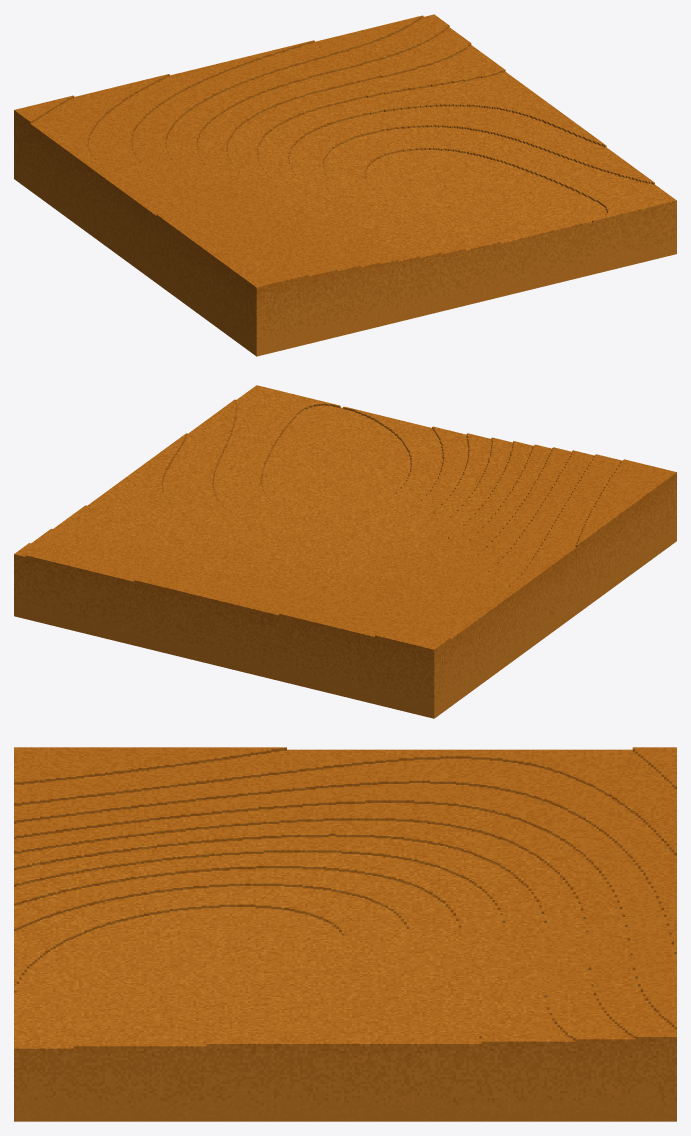
Rendered from Marte-10.obj.
The picture shows the model from 3 angles, top to bottom: view 1: azimuth 30°, elevation 25°; view 2: azimuth 150°, elevation 25°; view 3: azimuth 270°, elevation 25°; orthographic projection. The views are drawn at different scales.
Size of the model in its own units: 25.5 by 4 by 25.5.
Materials: 1 (1 with a texture image).
